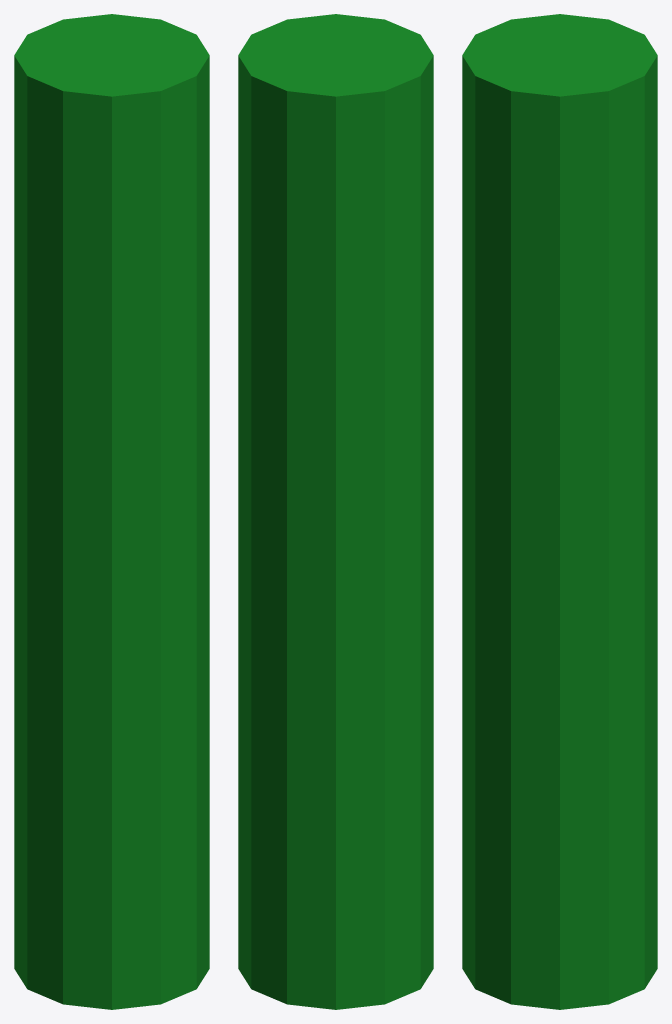
Rendered from coolant_green_02.dae.
3 renders of one model, left to right at view 1: azimuth 30°, elevation 25°; view 2: azimuth 150°, elevation 25°; view 3: azimuth 270°, elevation 25°, orthographic.
Parts seen in each view (by area): view 1: risingCoolant; view 2: risingCoolant; view 3: risingCoolant.
Boxes of the visible parts, left/top/right/bottom form: risingCoolant: left=14, top=14, right=209, bottom=1009; risingCoolant: left=238, top=14, right=433, bottom=1009; risingCoolant: left=462, top=14, right=657, bottom=1009.
Size of the model in its own units: 0.049 by 0.2526 by 0.049.
